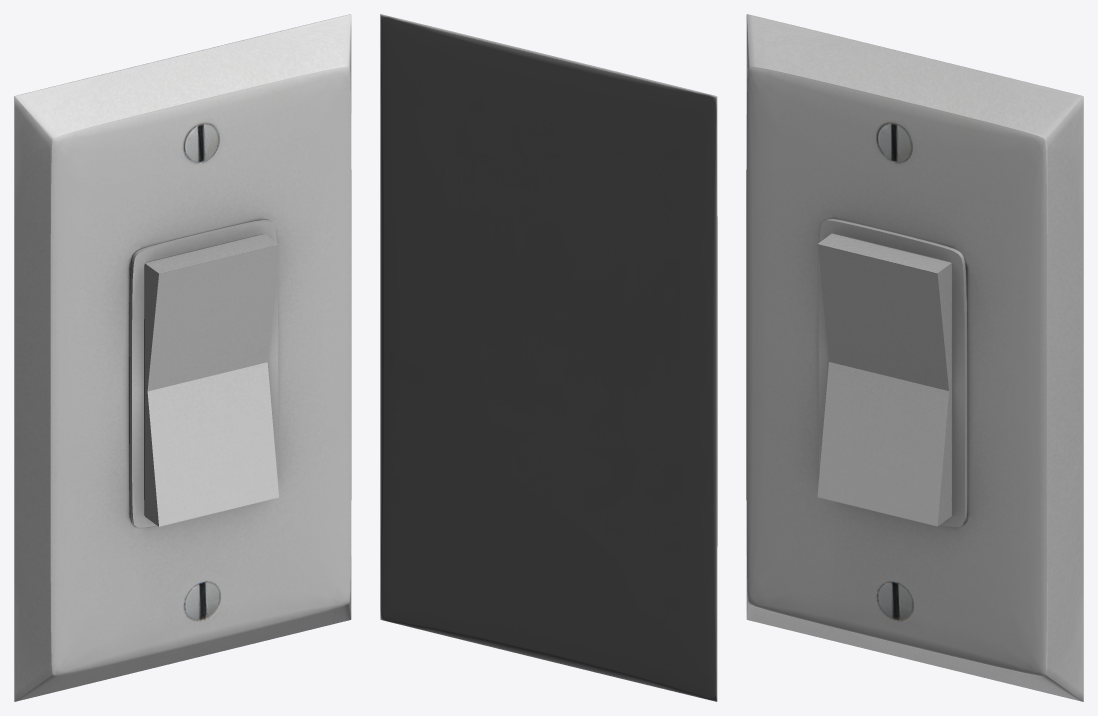
The model's file is 10121_Light_Switch_v1_L3.obj.
3 renders of one model, left to right at view 1: azimuth 30°, elevation 25°; view 2: azimuth 150°, elevation 25°; view 3: azimuth 330°, elevation 25°, orthographic.
Parts seen in each view (by area): view 1: 10121_Light_Switch_v1; view 2: 10121_Light_Switch_v1; view 3: 10121_Light_Switch_v1.
Boxes of the visible parts, x1,y1,x2,y2 form: 10121_Light_Switch_v1: [14, 14, 351, 701]; 10121_Light_Switch_v1: [380, 14, 717, 701]; 10121_Light_Switch_v1: [746, 14, 1083, 701].
Size of the model in its own units: 5.55 by 9.54 by 1.08.
1 material, 1 textured.
